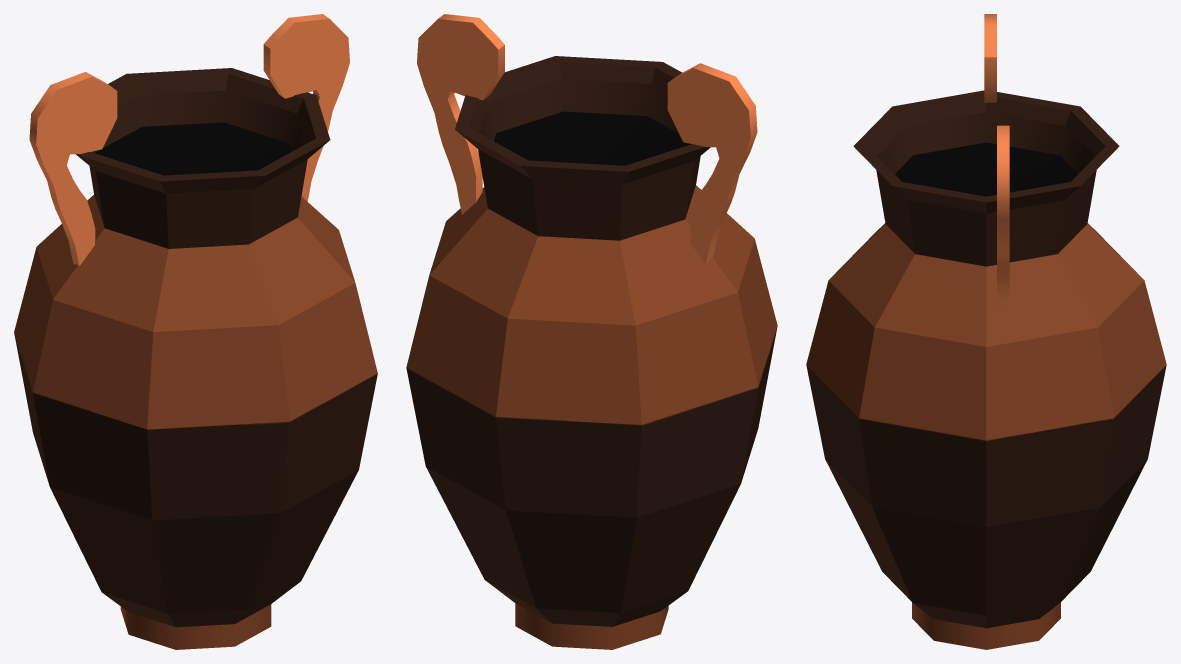
Rendered from Broken Pot 2.fbx.
3 renders of one model, left to right at view 1: azimuth 30°, elevation 25°; view 2: azimuth 150°, elevation 25°; view 3: azimuth 270°, elevation 25°, orthographic. The views are drawn at different scales.
Parts seen in each view (by area): view 1: Object001, Cylinder003, Object002; view 2: Object001, Cylinder003, Object002; view 3: Object001, Cylinder003, Object002.
Part boxes in pixels (x1=…): Object001: x1=14, y1=14, x2=362, y2=440; Cylinder003: x1=16, y1=314, x2=377, y2=548; Object002: x1=51, y1=489, x2=325, y2=649; Object001: x1=417, y1=14, x2=777, y2=436; Cylinder003: x1=406, y1=307, x2=774, y2=546; Object002: x1=459, y1=486, x2=739, y2=649; Object001: x1=812, y1=14, x2=1160, y2=364; Cylinder003: x1=806, y1=341, x2=1166, y2=583; Object002: x1=846, y1=501, x2=1126, y2=649.
Bounding box in the file's own units: 6.89 × 11.46 × 6.89.
